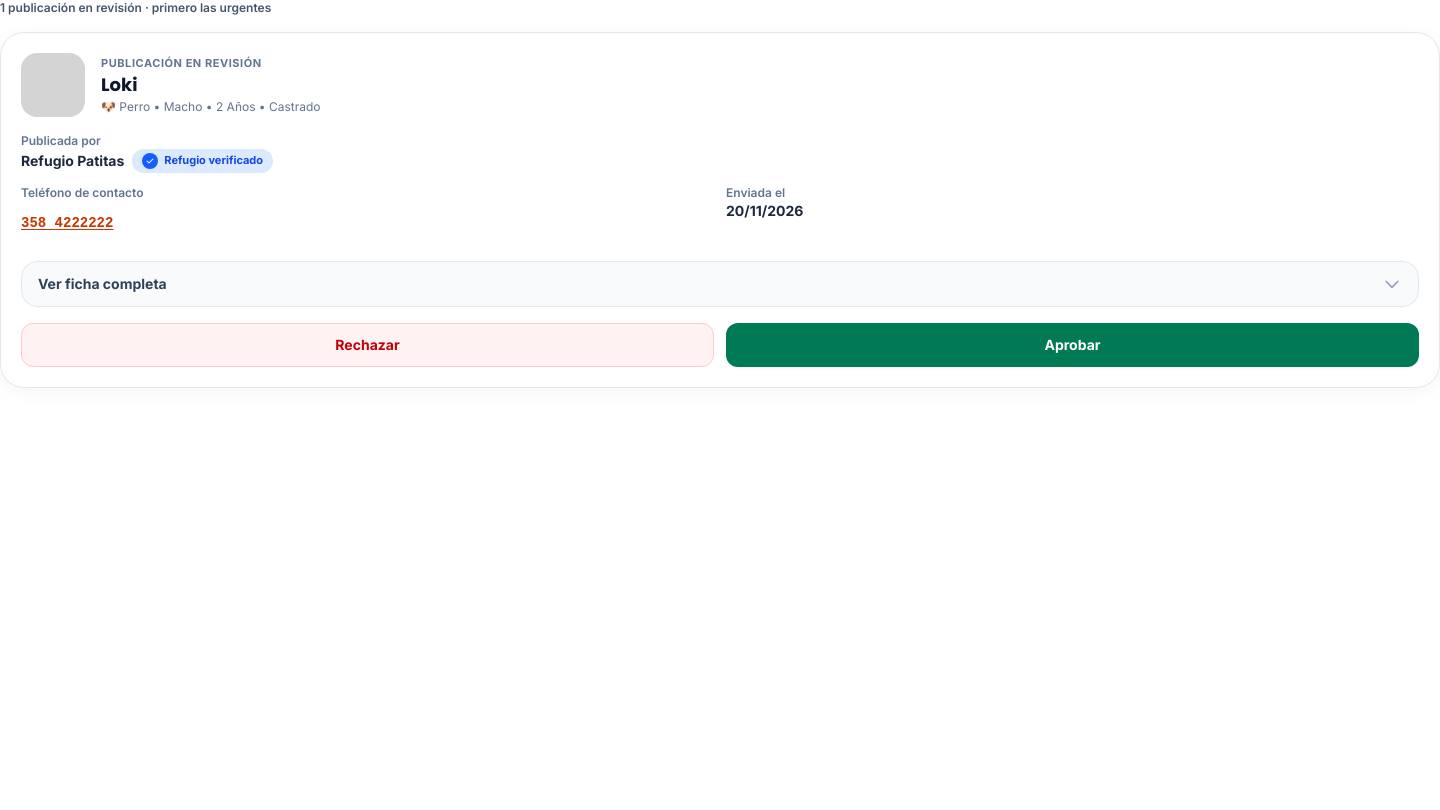
Test case: PetReviewQueue › muestra el error del back y vuelve a pedir la cola al cerrar
Step 1. Click the button "Aprobar" → (1072, 345), box [726,323,1419,367]
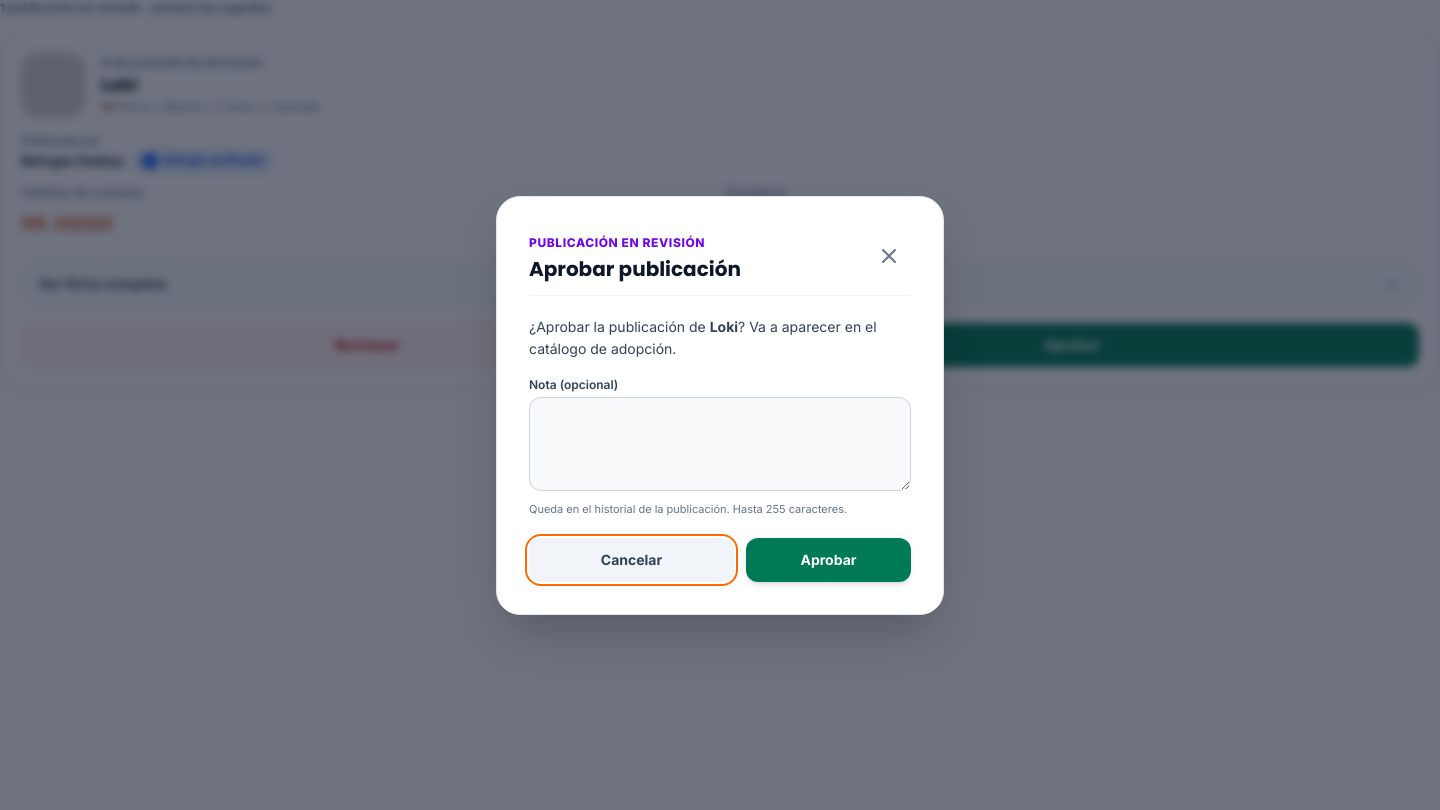
Step 2. Click the button "Aprobar" → (828, 560), box [746,538,911,582]
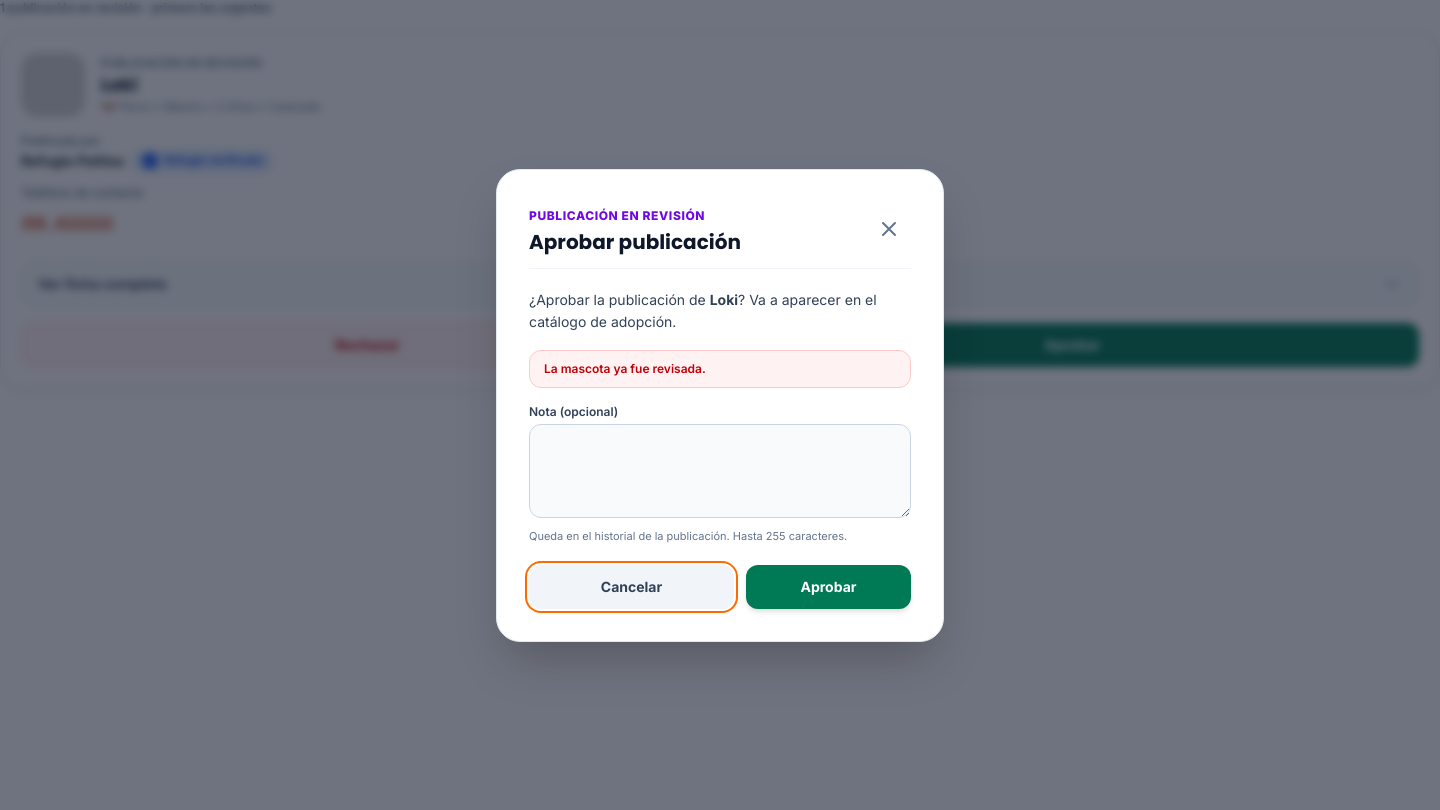
Expected: the message reads "La mascota ya fue revisada.", [544,361,706,376]
Step 3. Press Escape
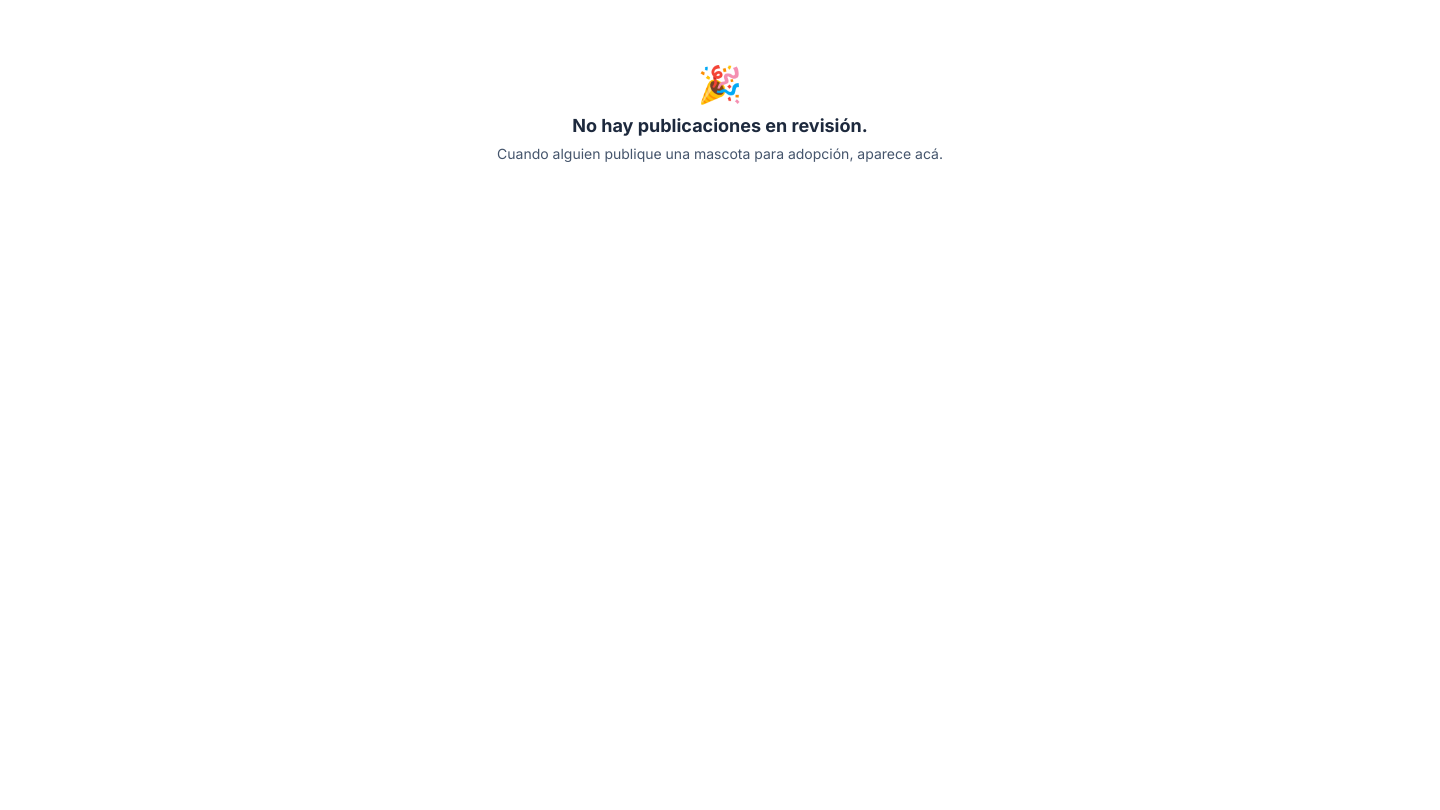
Expected: the dialog is gone
Expected: the text "No hay publicaciones en revisión." is shown, [572,115,868,136]
